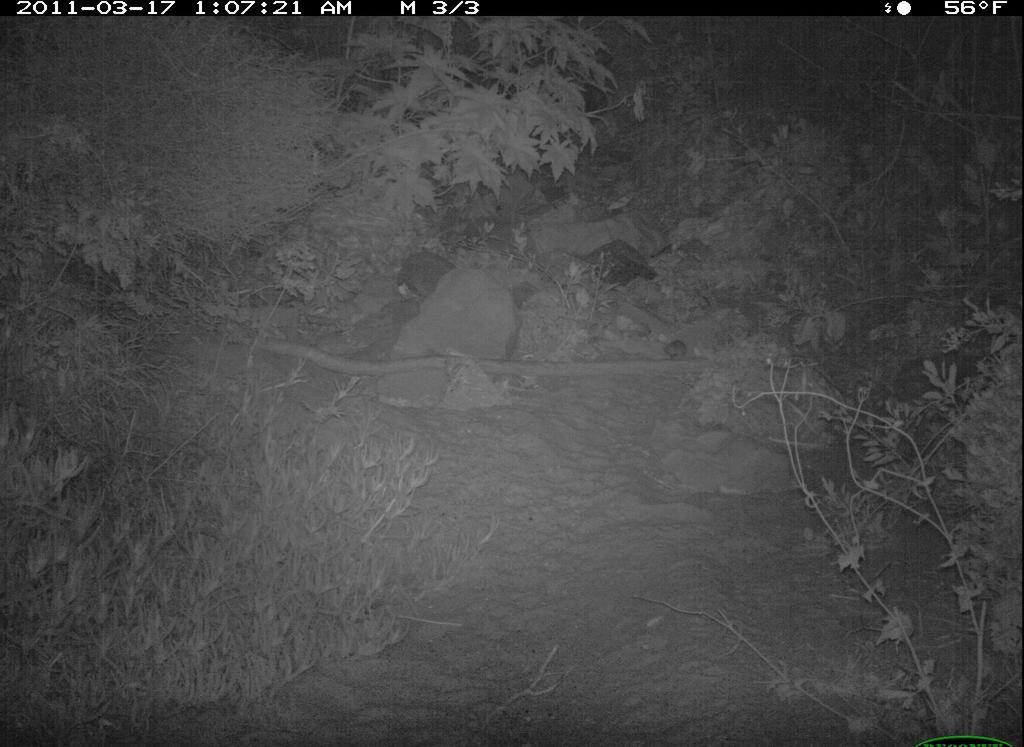rodent: (660, 334, 692, 366)
